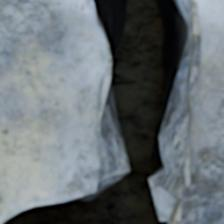broken_brick: (0, 0, 106, 221), (180, 0, 223, 223)
crack: (0, 0, 222, 223)
